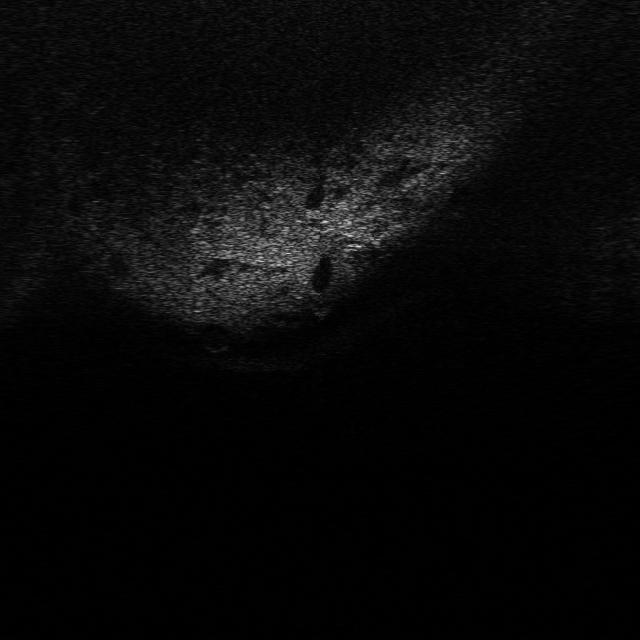ball: (299, 290, 342, 318)
